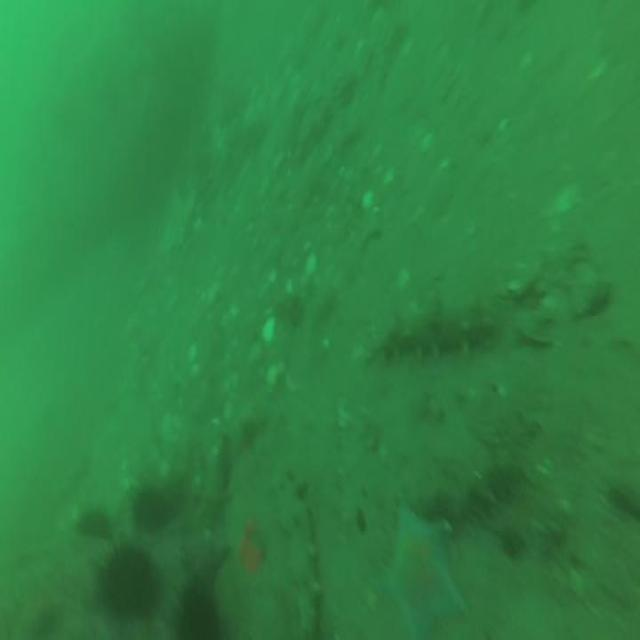echinus: (100, 553, 156, 623), (176, 589, 220, 640), (132, 487, 170, 532), (78, 506, 110, 537)
holothurian: (273, 471, 323, 637), (366, 305, 494, 365), (418, 468, 524, 523), (194, 428, 230, 536)
starfish: (375, 507, 468, 637), (178, 529, 226, 583)
